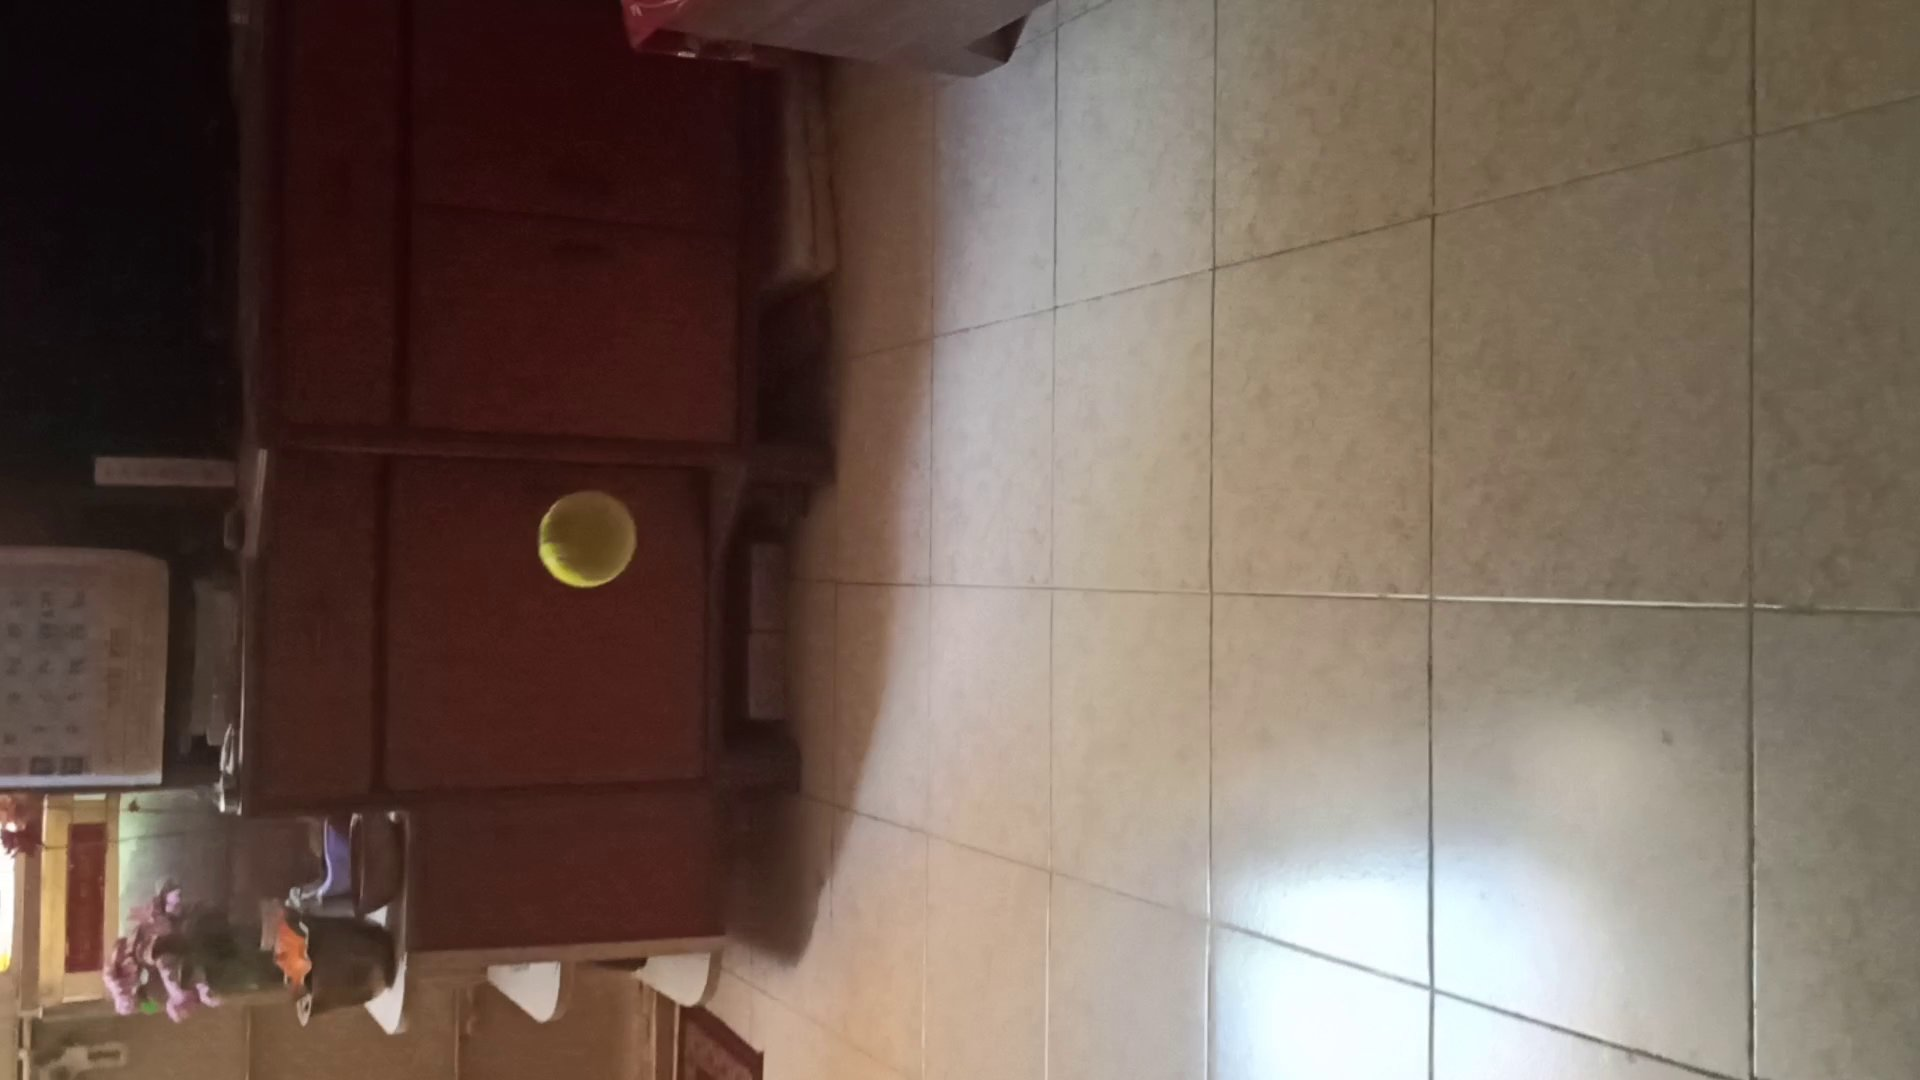Tennis-Ball: (539, 491, 637, 587)
